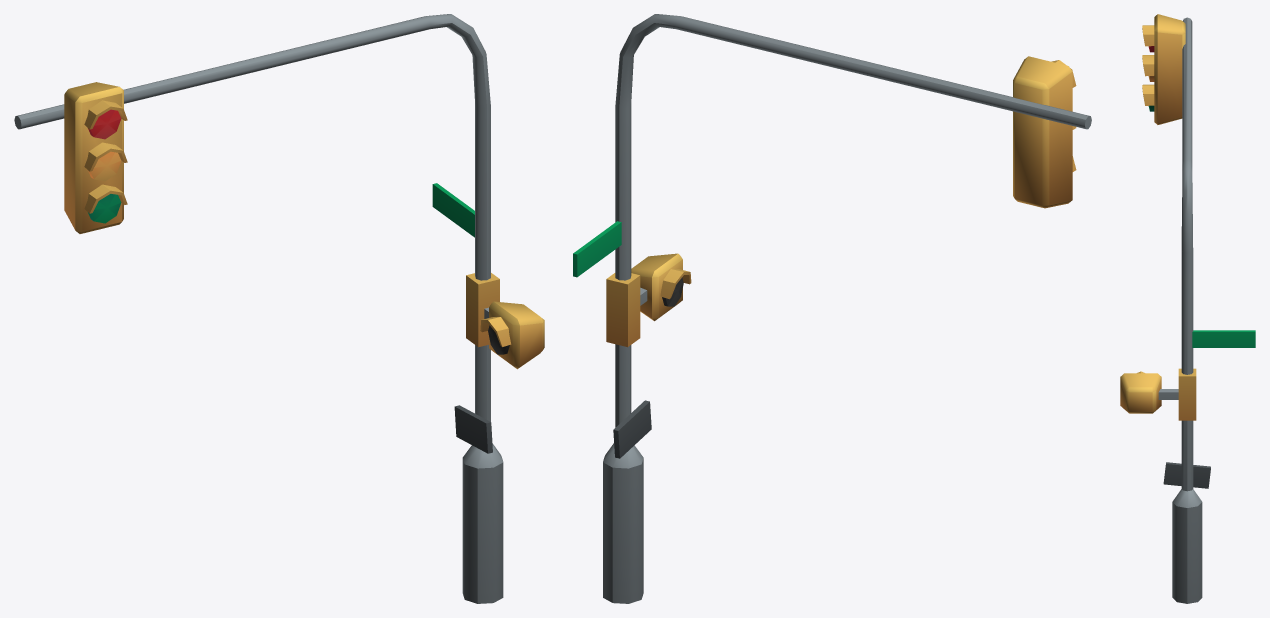
The model's file is trafficlight_C_edited.glb.
3 views of the same model, side by side, from view 1: azimuth 30°, elevation 25°; view 2: azimuth 150°, elevation 25°; view 3: azimuth 270°, elevation 25° (orthographic). The views are drawn at different scales.
Parts seen in each view (by area): view 1: trafficlight_C; view 2: trafficlight_C; view 3: trafficlight_C.
Part boxes in pixels (x1,y1,x2,y2): trafficlight_C: (14,14,544,603); trafficlight_C: (573,14,1091,603); trafficlight_C: (1120,14,1255,603).
Size of the model in its own units: 0.7977 by 0.9695 by 0.2716.
Materials: 1 (1 with a texture image).
